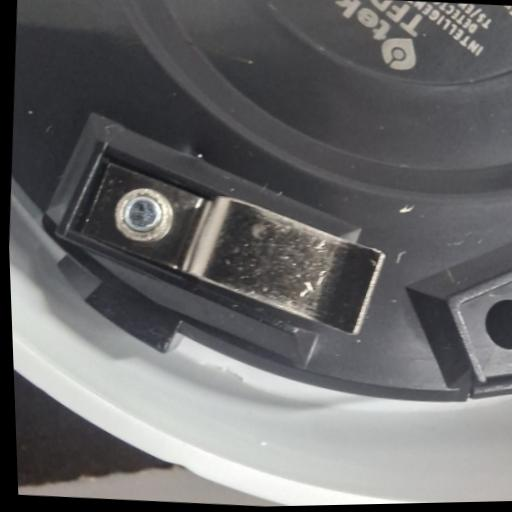yaysiz: (57, 143, 386, 343)
